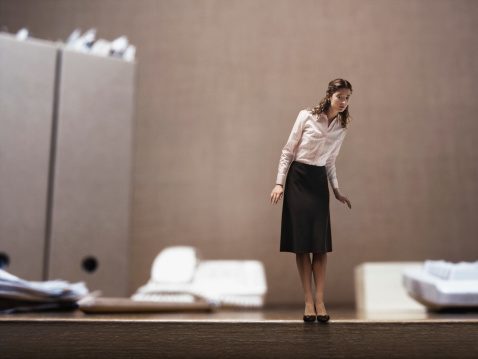em pe: (271, 75, 347, 317)
